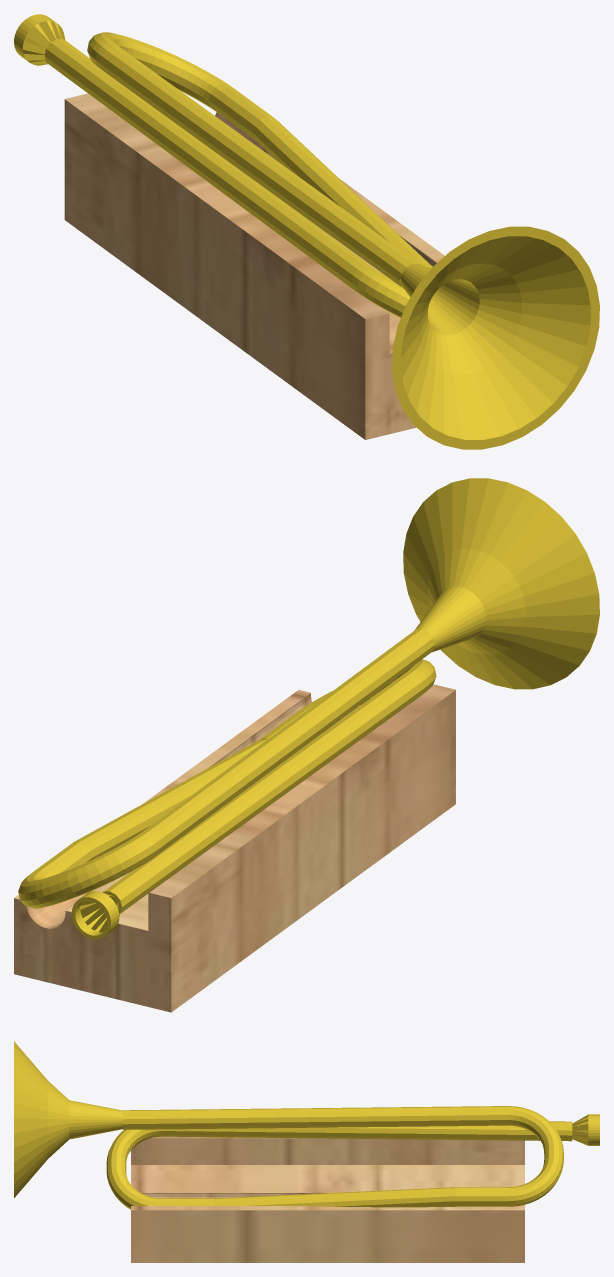
Rendered from trumpet.glb.
3 renders of one model, top to bottom at view 1: azimuth 30°, elevation 25°; view 2: azimuth 150°, elevation 25°; view 3: azimuth 270°, elevation 25°, orthographic. The views are drawn at different scales.
Parts seen in each view (by area): view 1: Trumpet, Stand; view 2: Trumpet, Stand; view 3: Stand, Trumpet.
Boxes of the visible parts, x1,y1,x2,y2 form: Trumpet: (14, 14, 599, 449); Stand: (64, 93, 444, 439); Trumpet: (18, 478, 599, 939); Stand: (14, 684, 455, 1012); Stand: (131, 1136, 524, 1262); Trumpet: (14, 1041, 599, 1209).
Size of the model in its own units: 0.8789 by 0.9764 by 2.97.
2 materials, 1 textured.
